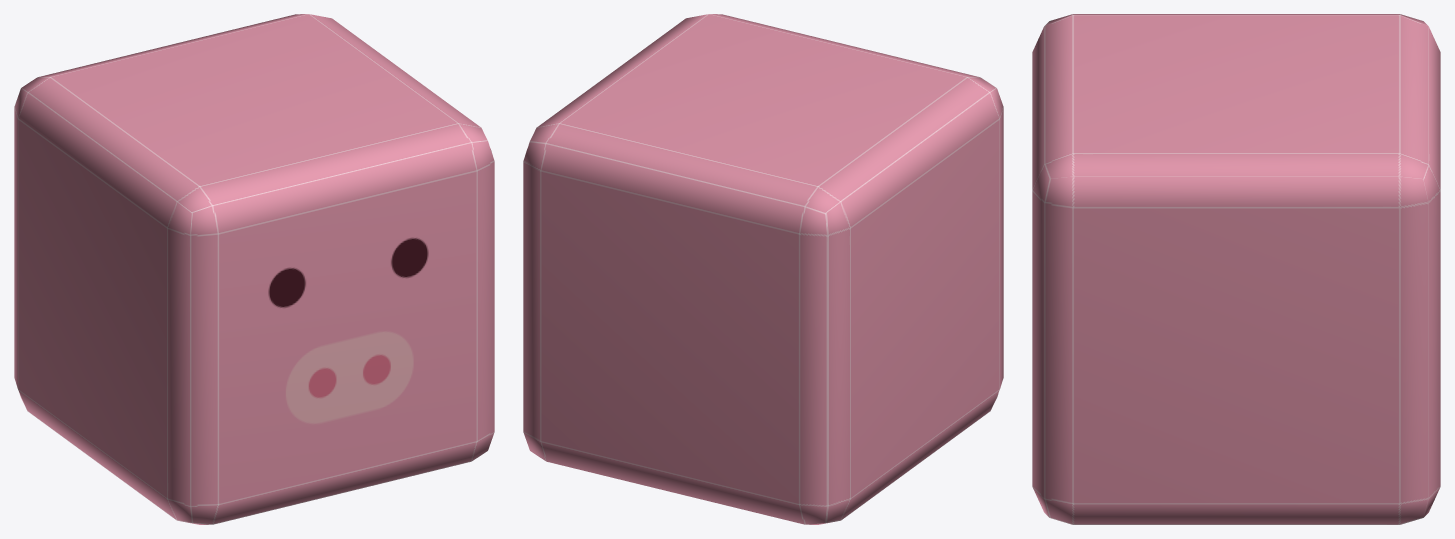
The model's file is obtacle.fbx.
3 renders of one model, left to right at view 1: azimuth 30°, elevation 25°; view 2: azimuth 150°, elevation 25°; view 3: azimuth 270°, elevation 25°, orthographic. The views are drawn at different scales.
Parts seen in each view (by area): view 1: obtacle; view 2: obtacle; view 3: obtacle.
Part boxes in pixels (<box>): obtacle: <box>14,14,494,524</box>; obtacle: <box>523,14,1003,524</box>; obtacle: <box>1032,14,1440,524</box>.
Size of the model in its own units: 229 by 229 by 229.
1 material, 1 textured.
